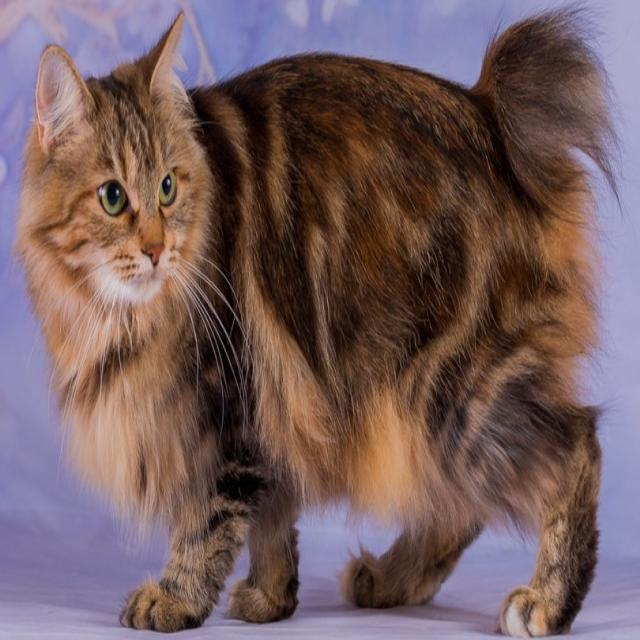American Bobtail: (12, 0, 619, 640)
